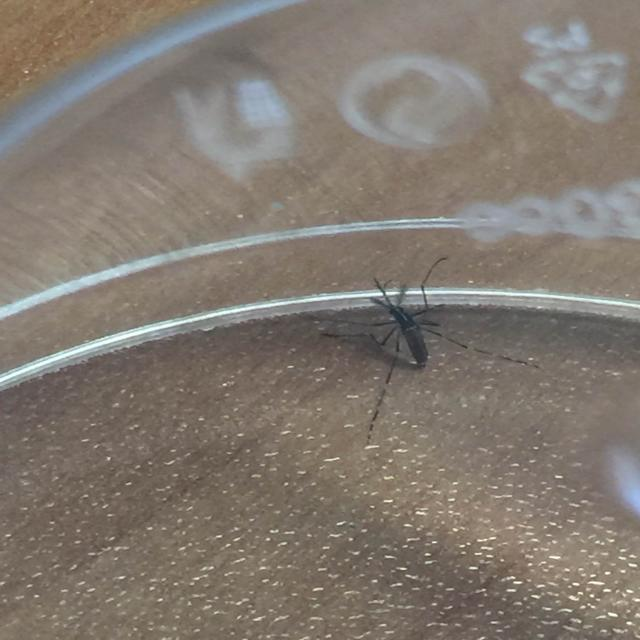albopictus: (293, 256, 550, 437)
